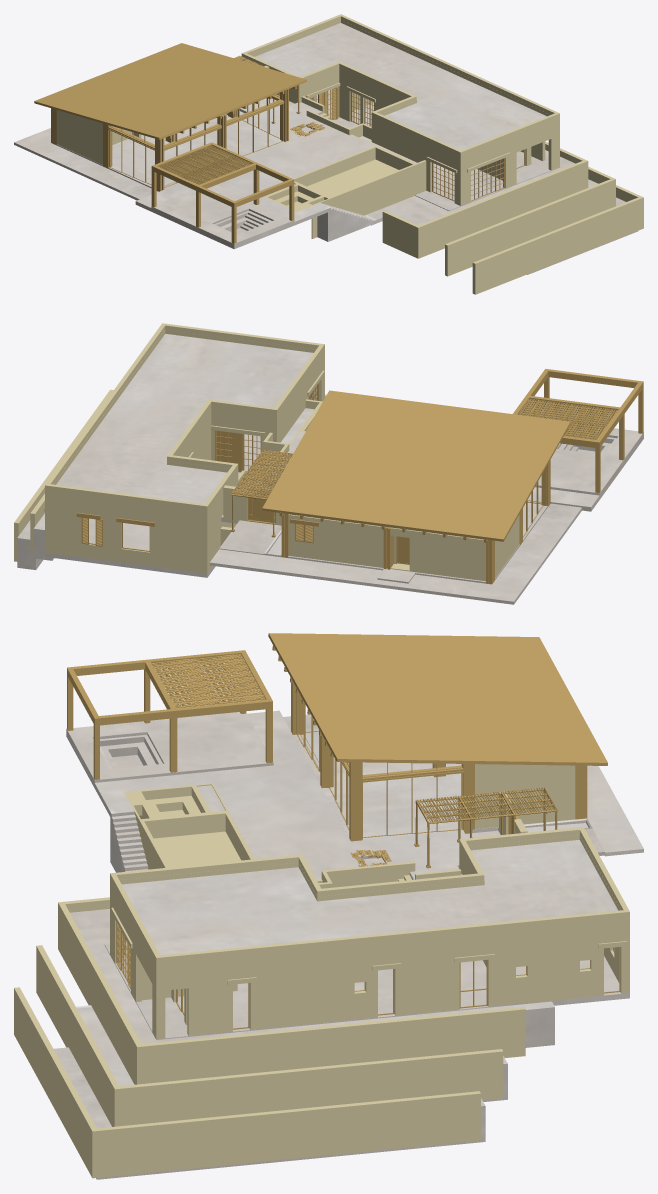
File: Casona01.glb
3 views of the same model, one above another, from view 1: azimuth 30°, elevation 25°; view 2: azimuth 150°, elevation 25°; view 3: azimuth 270°, elevation 25° (orthographic). The views are drawn at different scales.
Visible parts, largest first — view 1: C01W_Wall01, C01W_Floor02, C01W_Roof, C01W_Floor03, C01W_Wood, C01W_Floor01, C01W_Frames; view 2: C01W_Roof, C01W_Wall01, C01W_Floor03, C01W_Wood, C01W_Floor02, C01W_Floor01, C01W_Frames; view 3: C01W_Wall01, C01W_Roof, C01W_Floor02, C01W_Floor03, C01W_Wood, C01W_Floor01, C01W_Frames.
Boxes of the visible parts, left/top/right/bottom form: C01W_Wall01: left=56, top=14, right=643, bottom=294; C01W_Floor02: left=135, top=89, right=575, bottom=249; C01W_Roof: left=34, top=43, right=324, bottom=191; C01W_Floor03: left=14, top=23, right=546, bottom=200; C01W_Wood: left=35, top=55, right=338, bottom=243; C01W_Floor01: left=56, top=98, right=637, bottom=274; C01W_Frames: left=109, top=87, right=525, bottom=201; C01W_Roof: left=230, top=390, right=570, bottom=584; C01W_Wall01: left=14, top=323, right=519, bottom=581; C01W_Floor03: left=56, top=334, right=581, bottom=604; C01W_Wood: left=76, top=369, right=643, bottom=564; C01W_Floor02: left=45, top=428, right=643, bottom=577; C01W_Floor01: left=17, top=408, right=610, bottom=583; C01W_Frames: left=89, top=383, right=546, bottom=551; C01W_Wall01: left=14, top=764, right=629, bottom=1178; C01W_Roof: left=268, top=633, right=607, bottom=868; C01W_Floor02: left=66, top=710, right=629, bottom=1047; C01W_Floor03: left=122, top=714, right=643, bottom=955; C01W_Wood: left=67, top=636, right=607, bottom=865; C01W_Floor01: left=53, top=729, right=605, bottom=1179; C01W_Frames: left=116, top=693, right=620, bottom=1029.
Bounding box in the file's own units: 41.88 × 13.02 × 31.68.
Materials: 3 (1 with a texture image).
